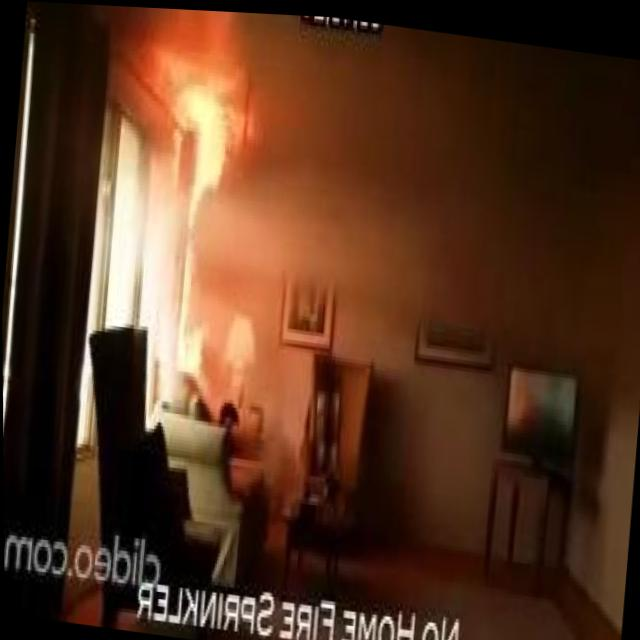fire: (175, 86, 238, 367), (178, 74, 241, 131)
